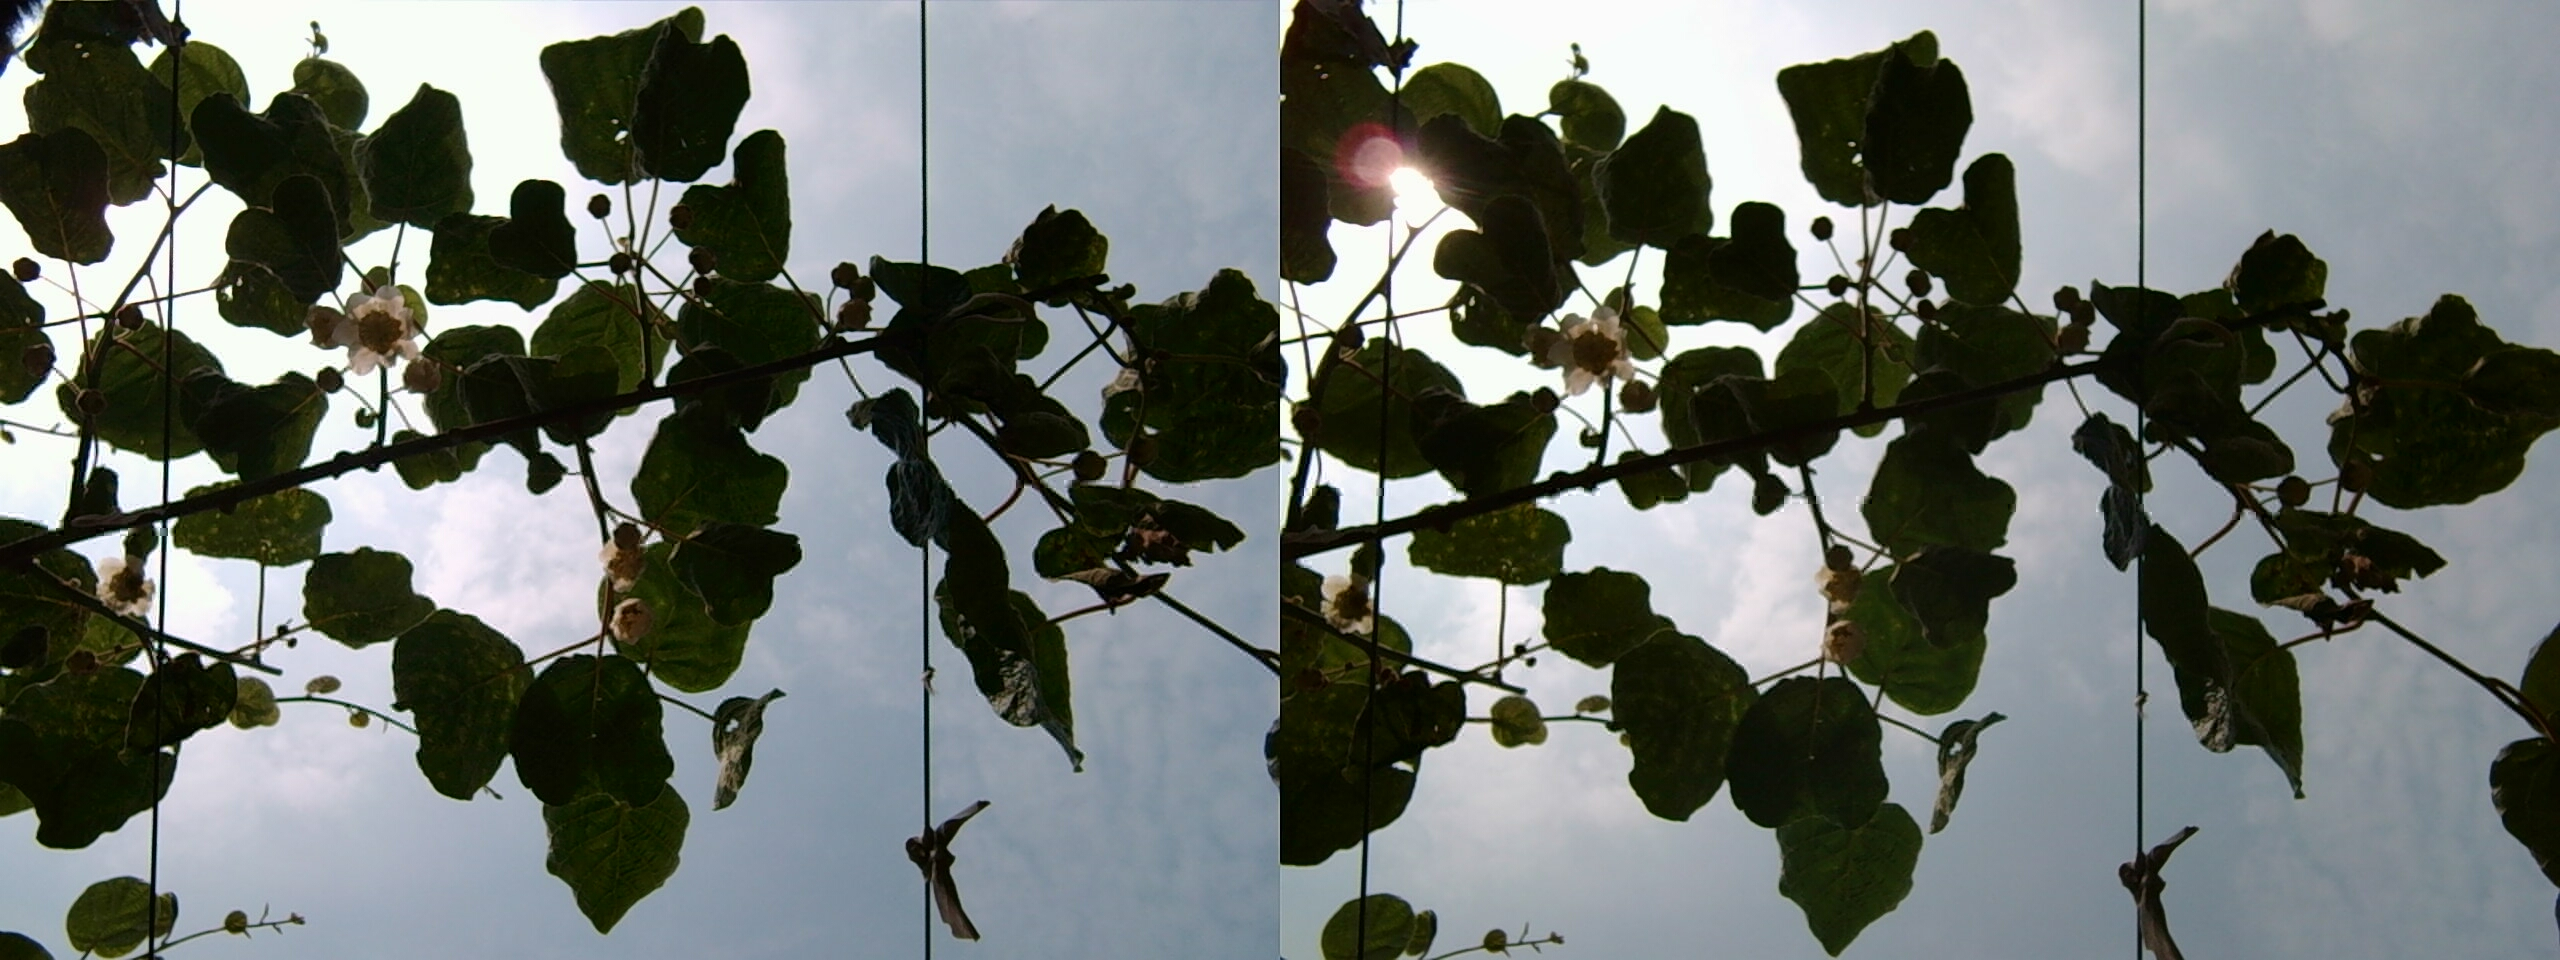flower: (335, 271, 441, 392), (1538, 304, 1647, 407)
